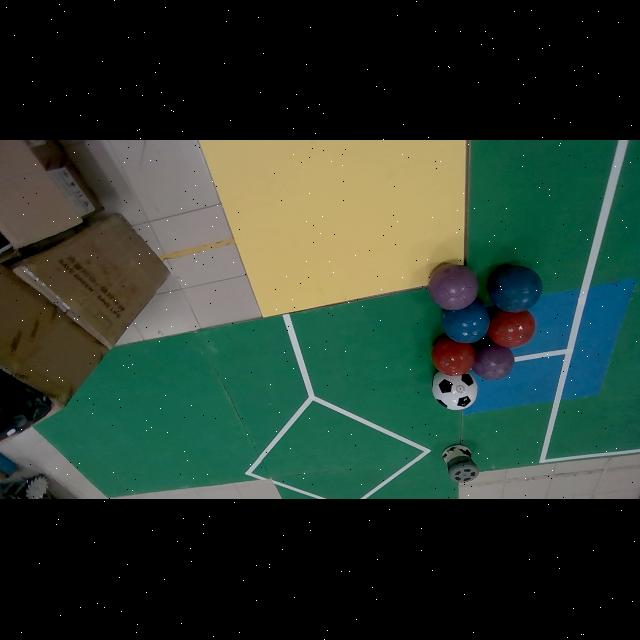B: (488, 266, 542, 313), (443, 302, 490, 343)
P: (428, 265, 479, 311), (472, 339, 514, 381)
R: (488, 308, 536, 349), (432, 335, 475, 377)
